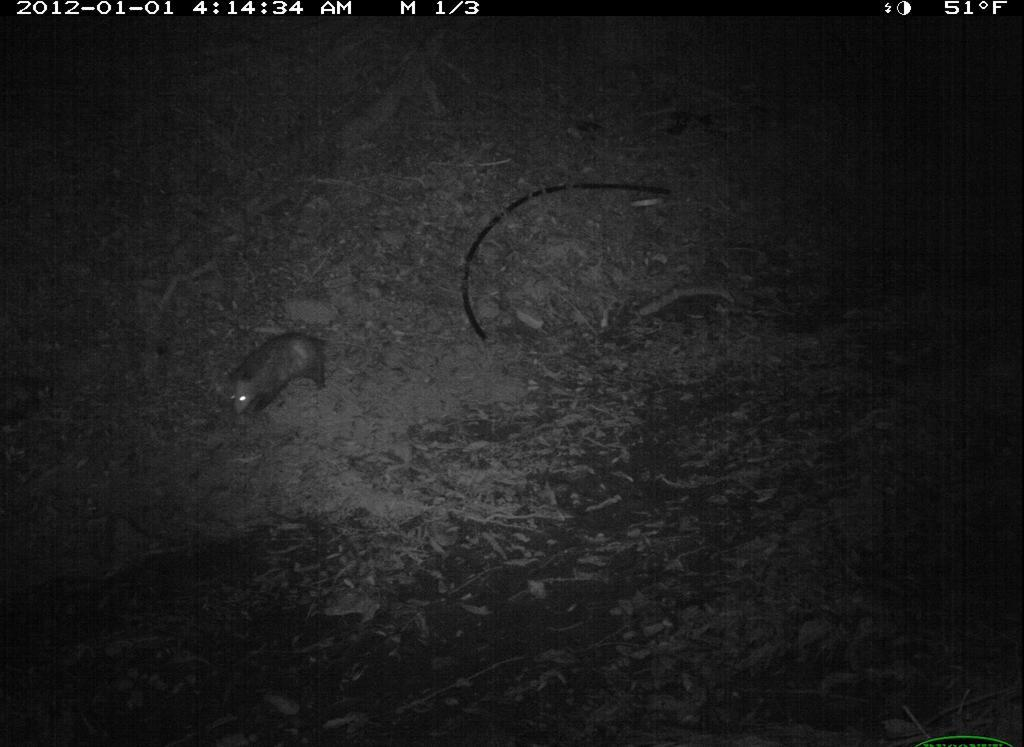opossum: (218, 322, 364, 422)
